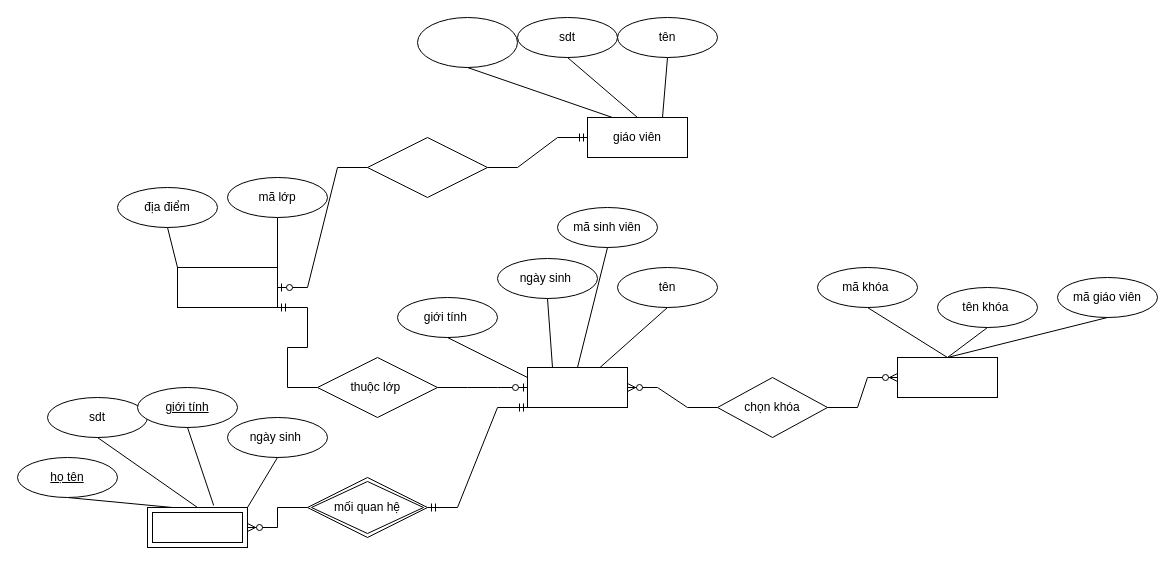
Image size: 1175x565. Some labels were removed from this diagram. The box of each missing label's shape, as (x1, y1, x2, y2) in pixels:
chủ nhiệm: (366, 136, 488, 198)
khóa học: (896, 356, 998, 398)
lớp học: (176, 266, 278, 308)
mã số: (416, 16, 518, 68)
người thân: (146, 506, 248, 548)
sinh viên: (526, 366, 628, 408)
